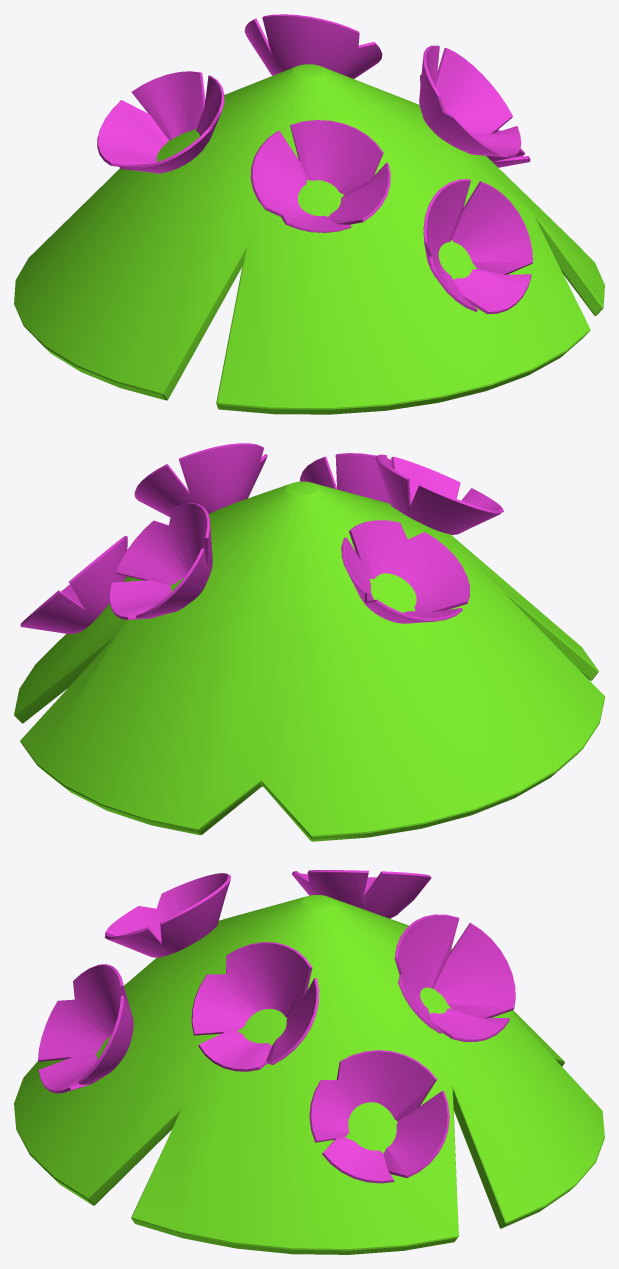
Rendered from Buisson.fbx.
The picture shows the model from 3 angles, top to bottom: view 1: azimuth 30°, elevation 25°; view 2: azimuth 150°, elevation 25°; view 3: azimuth 270°, elevation 25°; orthographic projection.
Parts seen in each view (by area): view 1: Cylinder.066; view 2: Cylinder.066; view 3: Cylinder.066.
Boxes of the visible parts, <box> form: Cylinder.066: <box>14,14,604,414</box>; Cylinder.066: <box>14,443,604,841</box>; Cylinder.066: <box>14,870,604,1254</box>.
Bounding box in the file's own units: 486 × 221 × 486.
